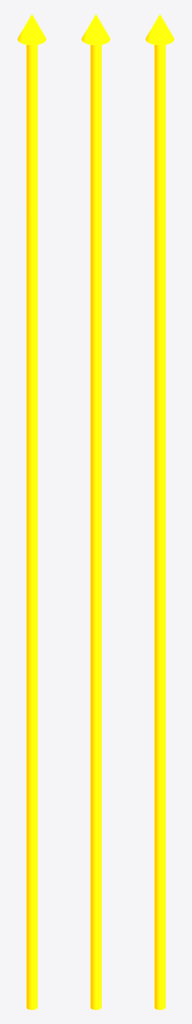
File: jib_crane_flow.glb
3 views of the same model, side by side, from view 1: azimuth 90°, elevation 25°; view 2: azimuth 210°, elevation 25°; view 3: azimuth 270°, elevation 25° (orthographic).
Parts seen in each view (by area): view 1: supply; view 2: supply; view 3: supply.
Boxes of the visible parts, x1=… form: supply: x1=17, y1=14, x2=46, y2=1009; supply: x1=81, y1=14, x2=110, y2=1009; supply: x1=145, y1=14, x2=174, y2=1009.
Size of the model in its own units: 0.052 by 1.97 by 0.052.
